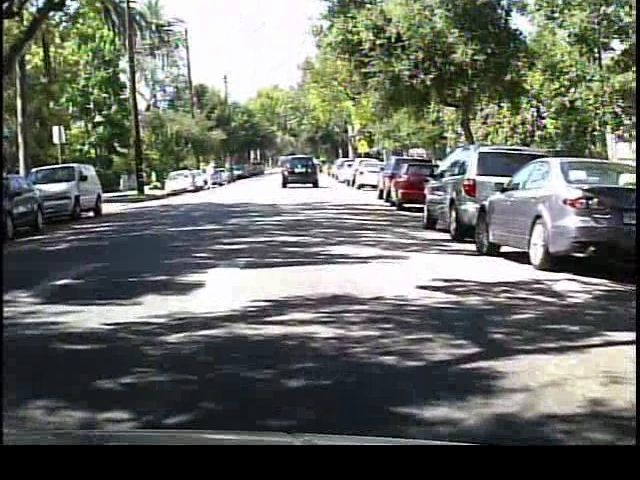person: (200, 157, 220, 197)
